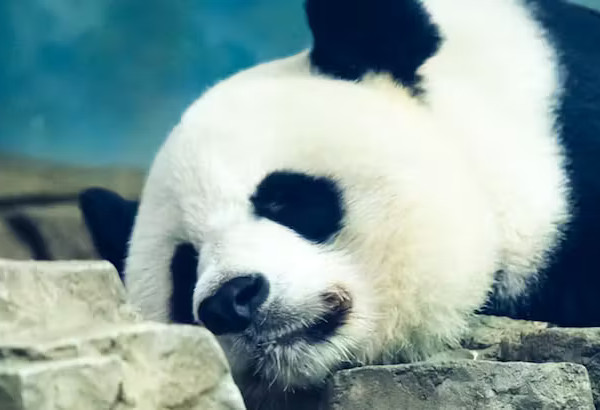Giant panda: (77, 2, 477, 384)
